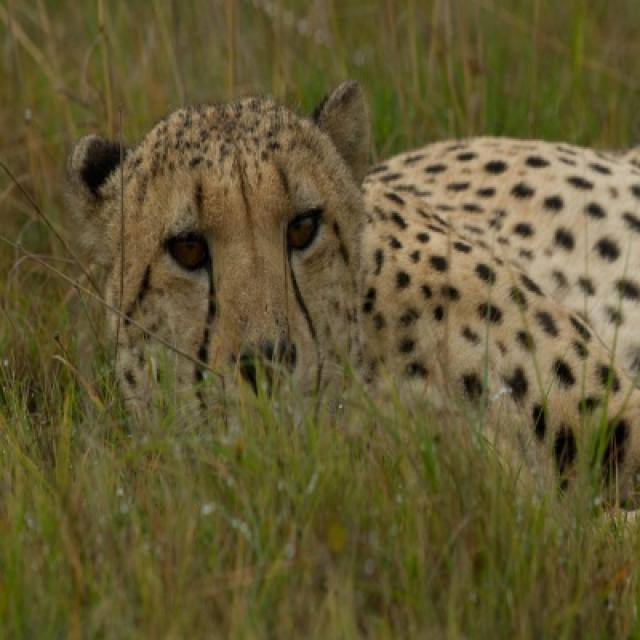Cheetah: (72, 82, 638, 496)
